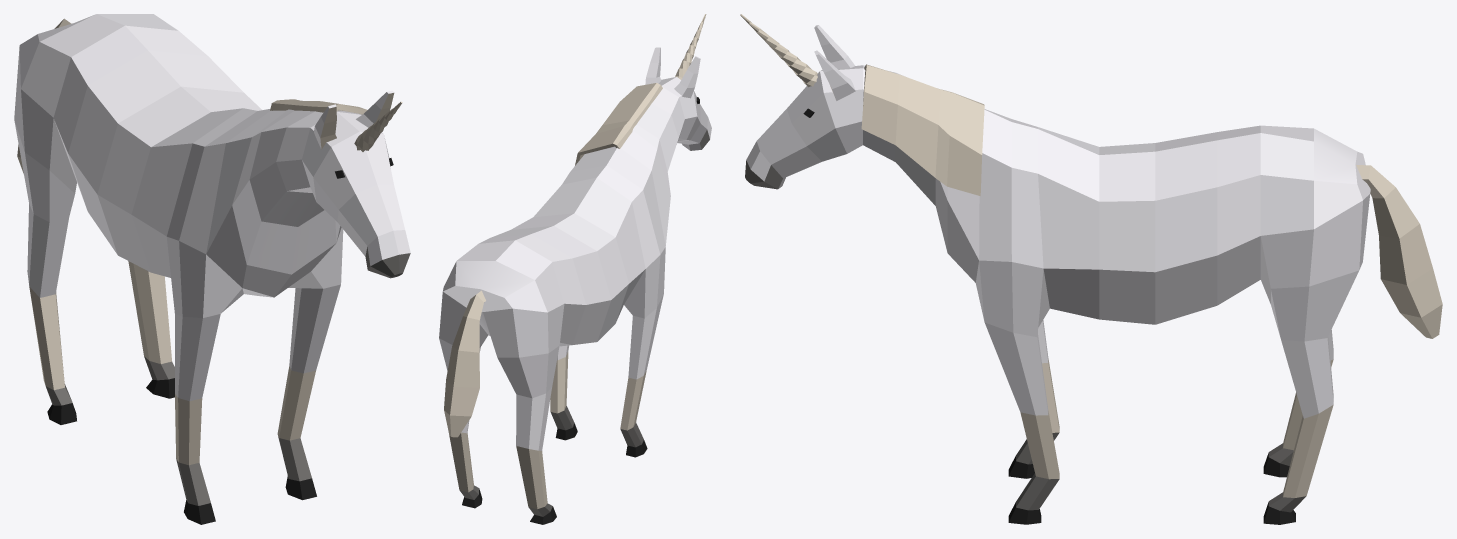
The model's file is Mesh_Unicorn.gltf.
3 renders of one model, left to right at view 1: azimuth 30°, elevation 25°; view 2: azimuth 150°, elevation 25°; view 3: azimuth 270°, elevation 25°, orthographic. The views are drawn at different scales.
Parts seen in each view (by area): view 1: node-0; view 2: node-0; view 3: node-0.
Boxes of the visible parts, bbox=[...] form: node-0: bbox=[14, 14, 410, 524]; node-0: bbox=[439, 14, 711, 524]; node-0: bbox=[740, 14, 1442, 524].
Bounding box in the file's own units: 73.07 × 214 × 283.
1 material, 1 textured.
